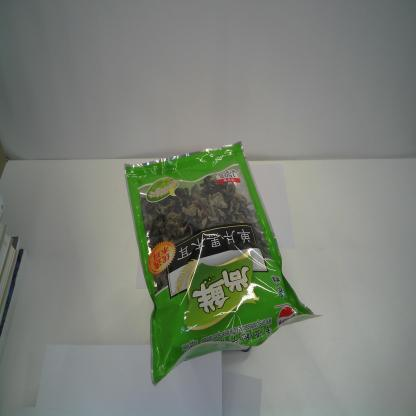Dried Food: (120, 137, 324, 390)
